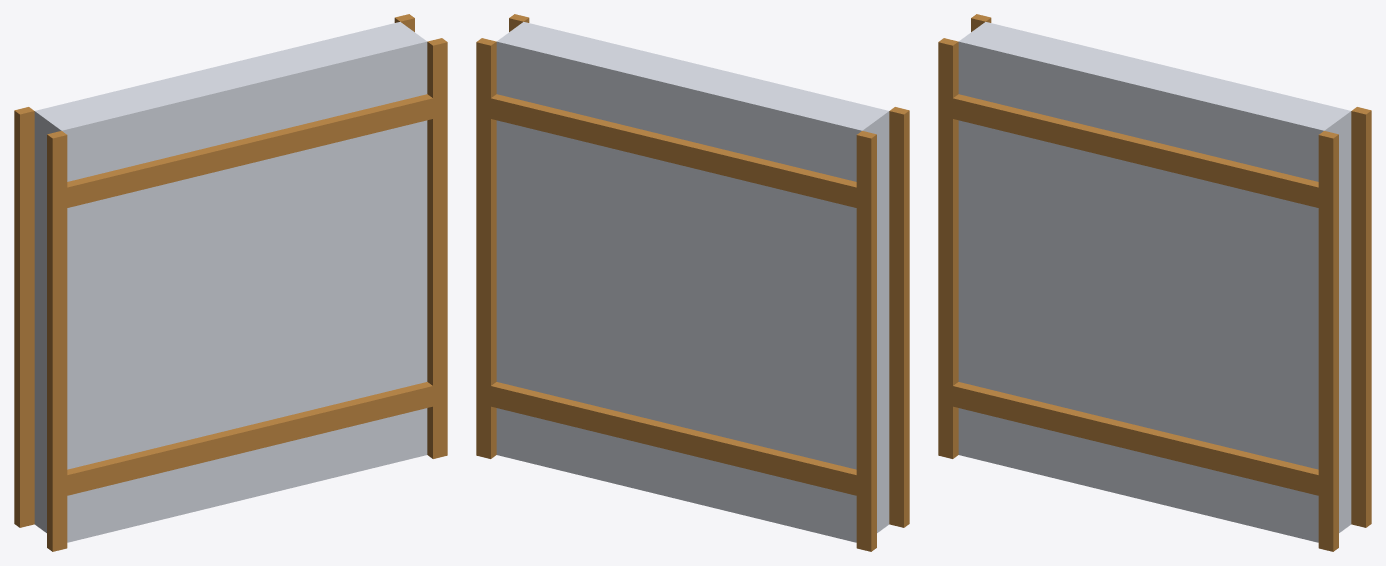
Rendered from 25_tuongo.fbx.
3 views of the same model, side by side, from view 1: azimuth 30°, elevation 25°; view 2: azimuth 150°, elevation 25°; view 3: azimuth 330°, elevation 25° (orthographic).
Parts seen in each view (by area): view 1: 25_tuonggo; view 2: 25_tuonggo; view 3: 25_tuonggo.
Boxes of the visible parts, box(x1,y1,x2,y2) form: 25_tuonggo: box(14, 14, 447, 551); 25_tuonggo: box(476, 14, 909, 551); 25_tuonggo: box(938, 14, 1371, 551).
Bounding box in the file's own units: 400 × 400 × 67.48.
